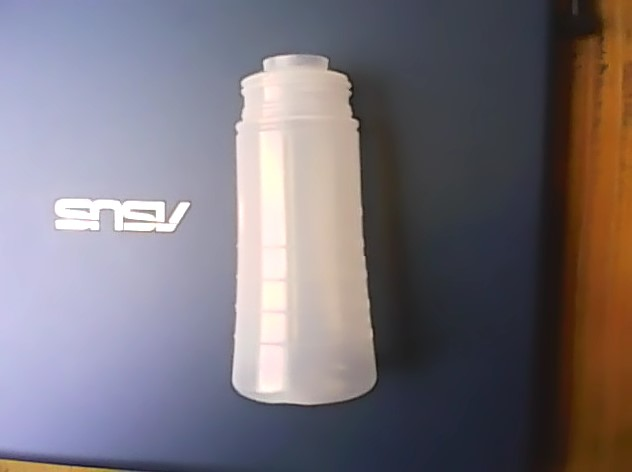Plastic: (231, 53, 380, 413)
